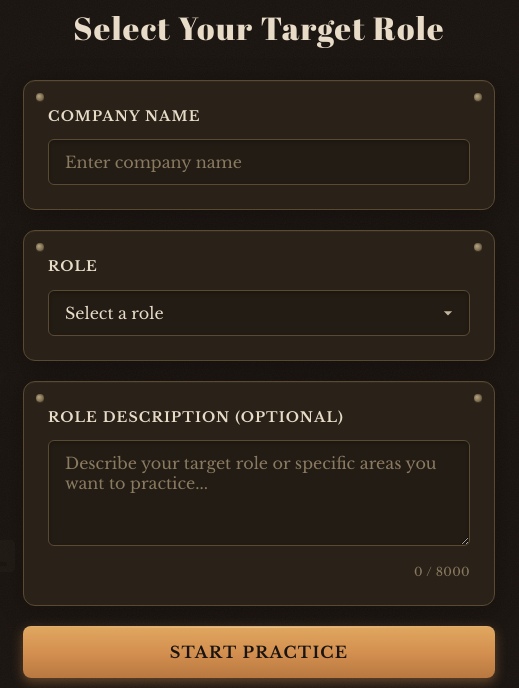
Test case: RoleSelectionView › form submission › shows success message on successful submission
Type "Test Corp" into the field named "companyName" at point(259, 162), box [48,139,470,185]
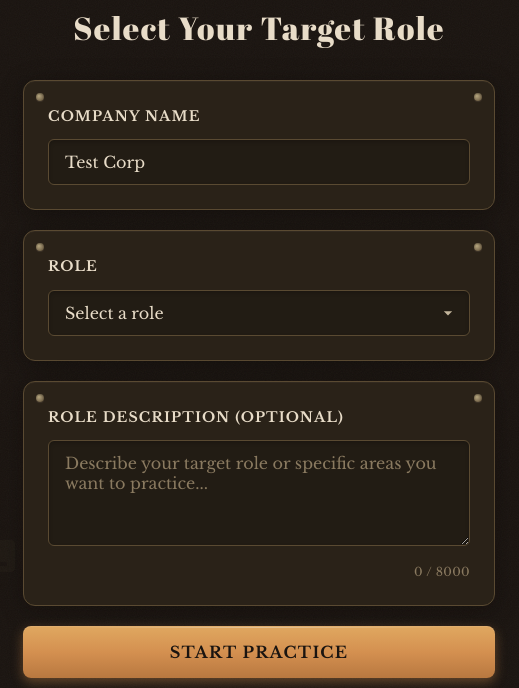
Select "Backend Developer" in the dropdown named "role" at point(259, 313), box [48,290,470,336]
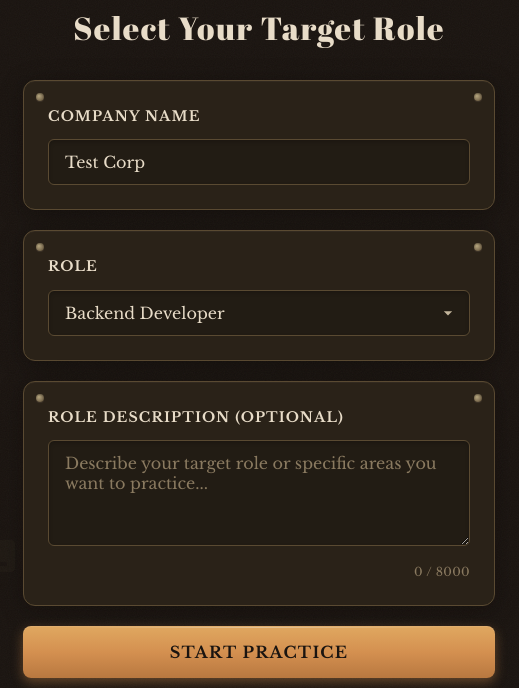
Submit the form
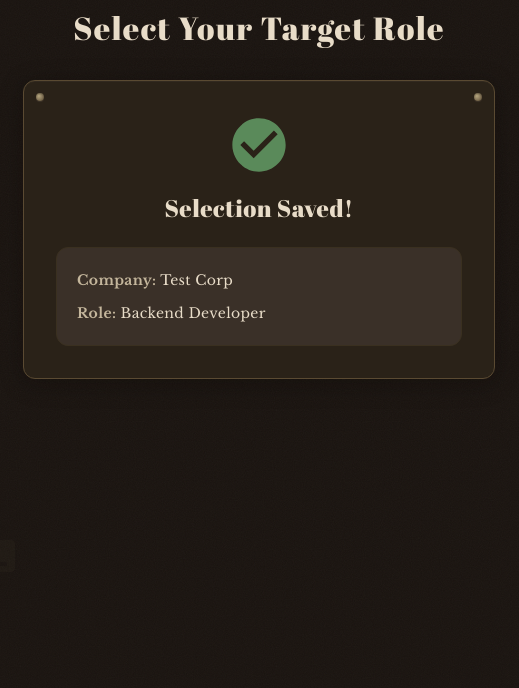
Check: the element with test id "success-message" is shown, box [23,80,495,379]
